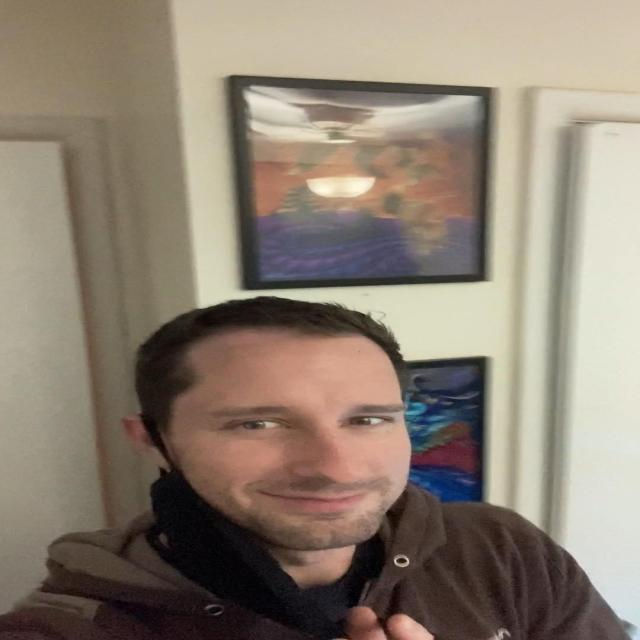no-helmet: (136, 308, 418, 570)
